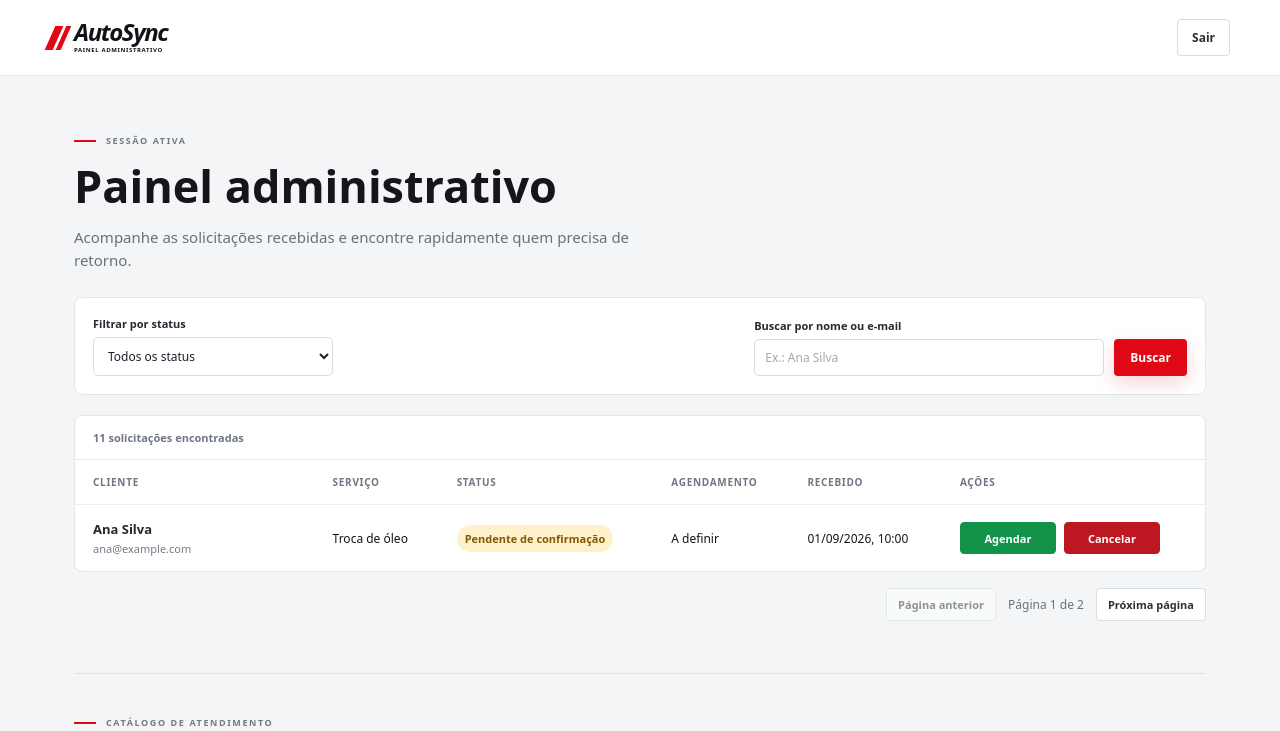
Test case: administrator can reschedule a scheduled attendance
The width and height of the screenshot is (1280, 731).
Expected: the text "Ana Silva" is shown, [93,520,152,538]
Type "João" into the field labelled "Buscar por nome ou e-mail" at (929, 358), box [754,339,1104,376]
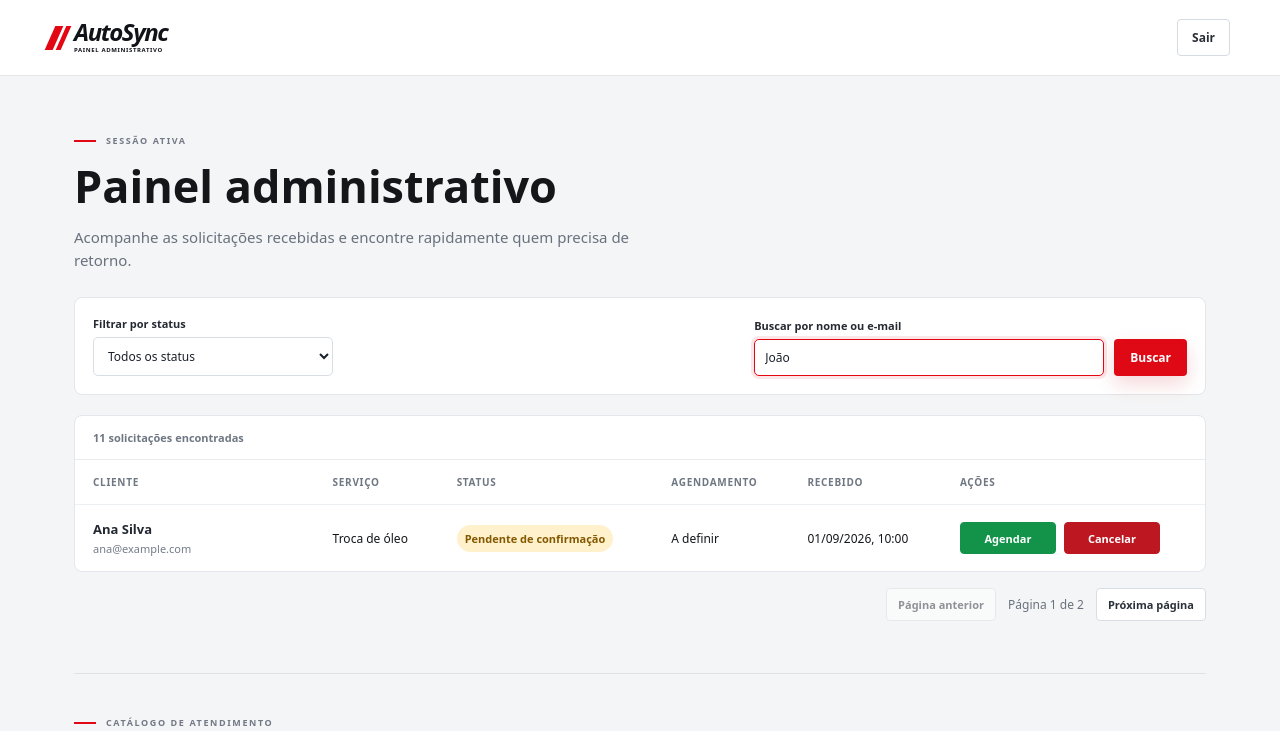
Click the button "Buscar" at (1151, 358), box [1114,339,1187,376]
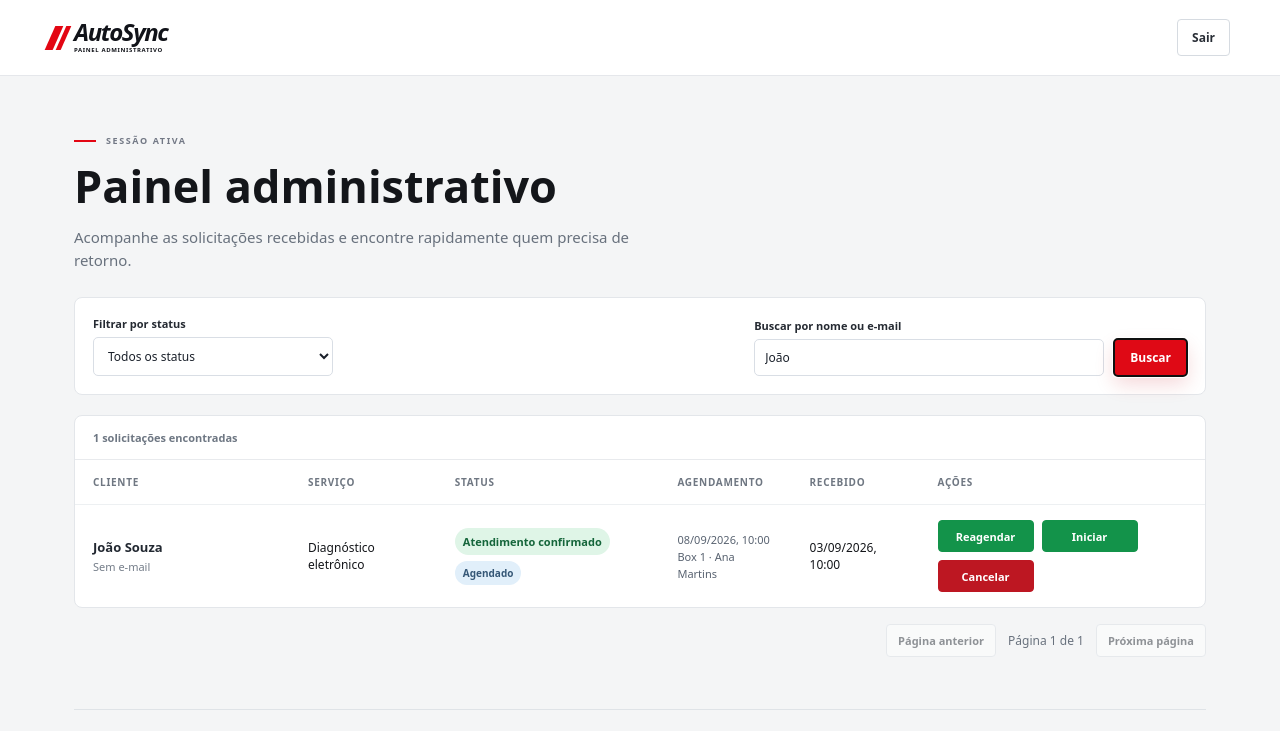
Expected: the text "João Souza" is shown, [93,538,163,556]
Click the button with aria-label "Reagendar atendimento de João Souza" at (986, 536), box [938,520,1034,552]
(page scrolled)
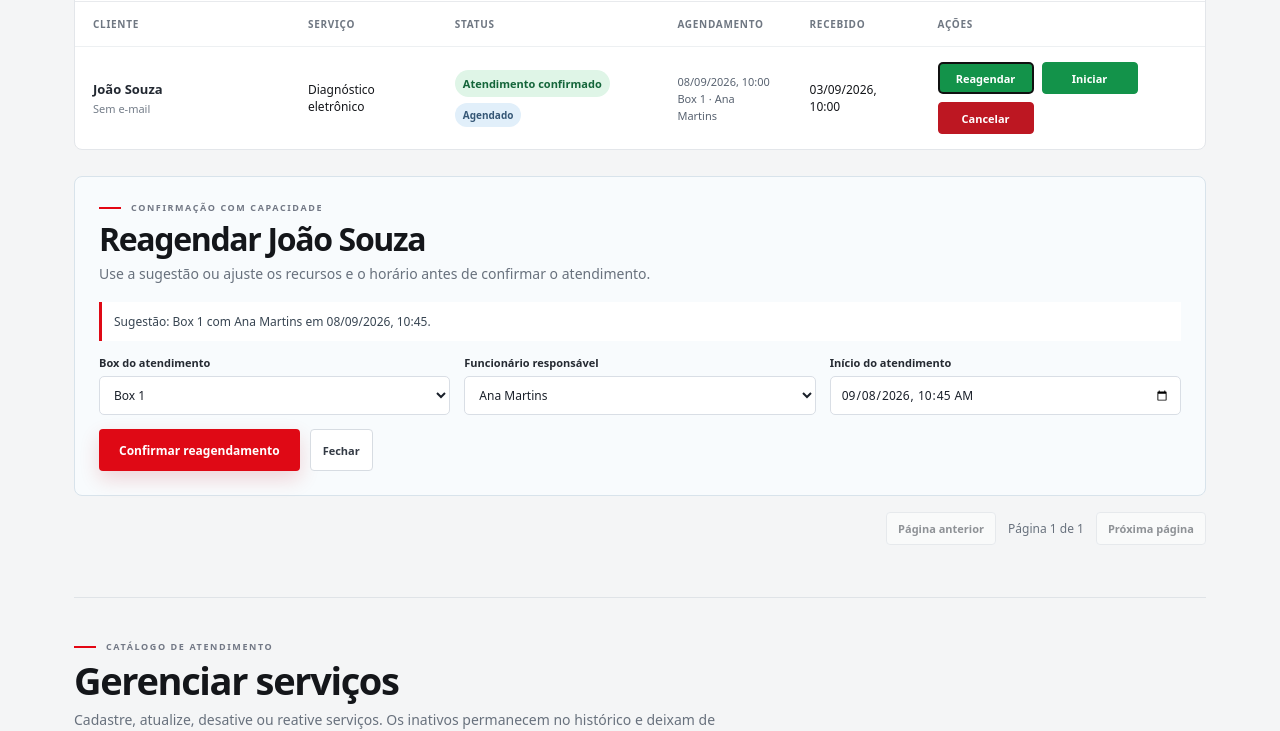
Expected: the heading "Reagendar João Souza" is shown, [99,217,425,260]
Expected: the text "Sugestão: Box 1 com Ana Martins em 08/09/2026, 10:45." is shown, [99,302,1181,341]
Click the button "Confirmar reagendamento" at (199, 450), box [99,429,300,471]
(page scrolled)
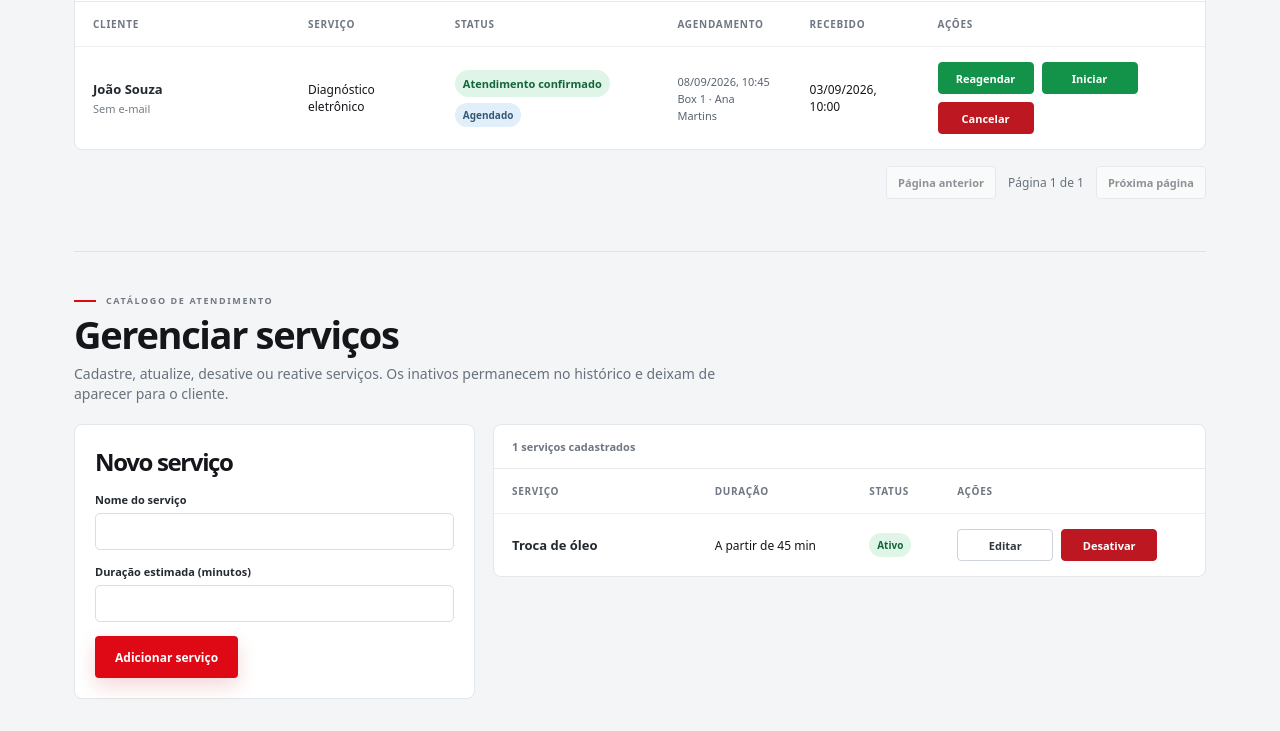
Expected: the text "08/09/2026, 10:45Box 1 · Ana Martins" is shown, [677,74,770,122]
